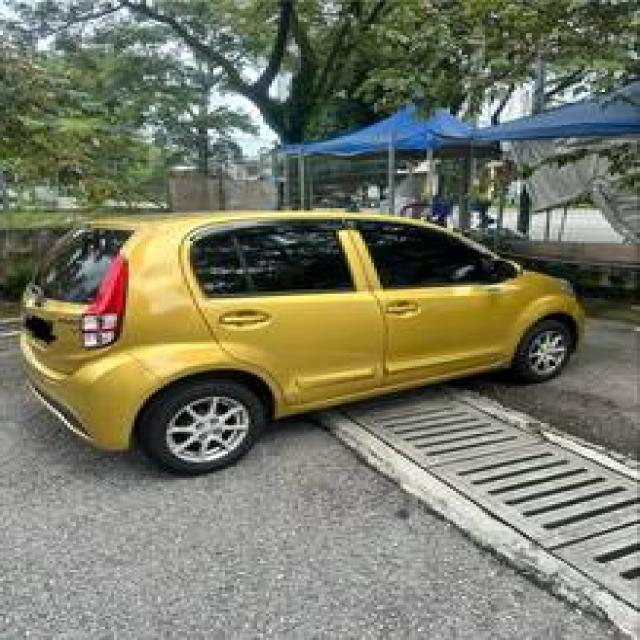PeroduaMyvi: (14, 206, 584, 476)
